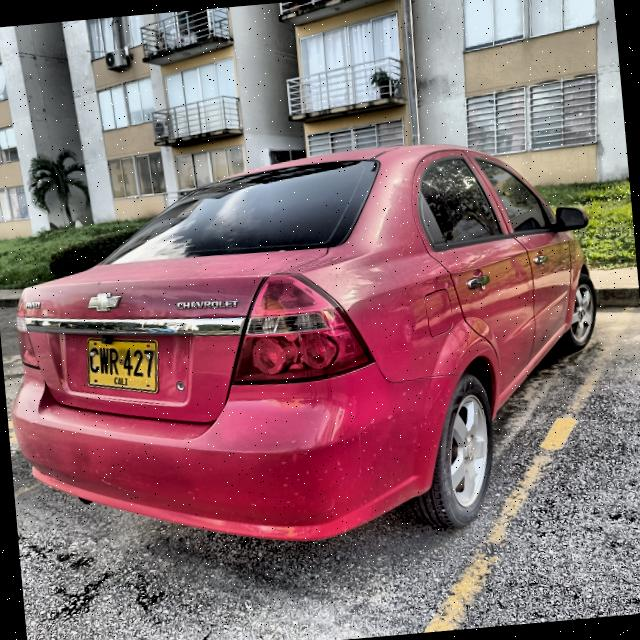2: (132, 348, 146, 377)
4: (121, 347, 134, 376)
7: (143, 349, 154, 379)
C: (89, 346, 100, 374)
R: (109, 347, 121, 375)
W: (100, 346, 109, 375)
